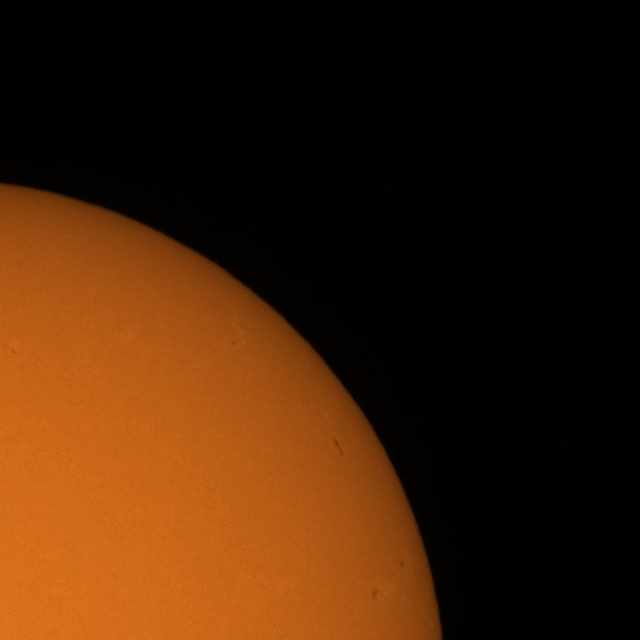sunspot: (332, 437, 346, 457), (370, 586, 382, 604), (398, 560, 406, 571), (231, 339, 238, 347)
